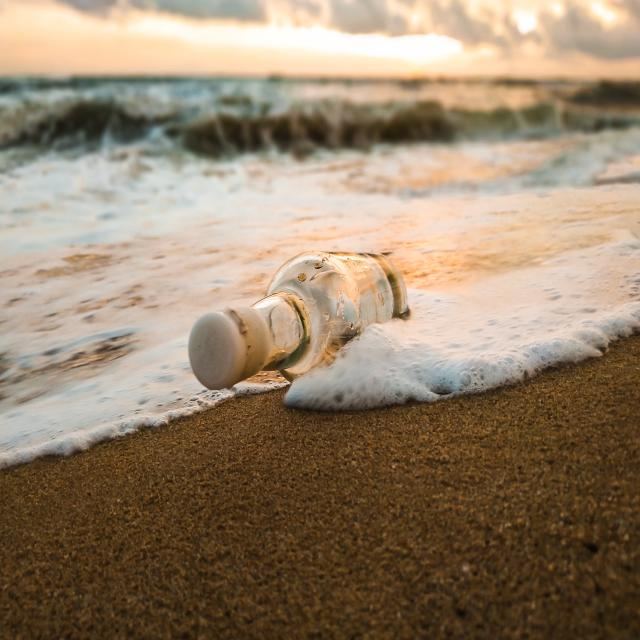glass: (220, 257, 407, 361)
